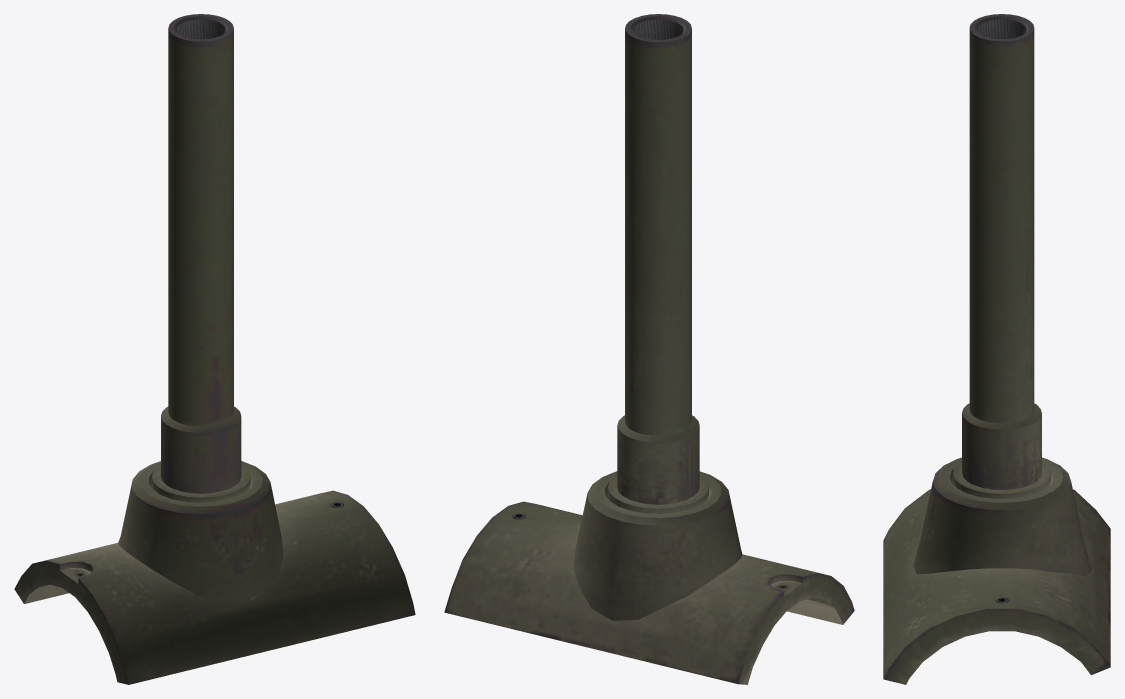
The model's file is Gun_04.glb.
3 renders of one model, left to right at view 1: azimuth 30°, elevation 25°; view 2: azimuth 150°, elevation 25°; view 3: azimuth 270°, elevation 25°, orthographic. The views are drawn at different scales.
Visible parts, largest first — view 1: set_0_group_0; view 2: set_0_group_0; view 3: set_0_group_0.
Part boxes in pixels (<box>): set_0_group_0: <box>14,14,415,684</box>; set_0_group_0: <box>444,14,854,684</box>; set_0_group_0: <box>883,14,1110,684</box>.
Size of the model in its own units: 0.8174 by 1.6 by 0.5644.
1 material, 1 textured.
